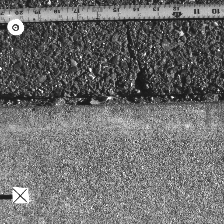circle: (6, 18, 25, 36)
crack: (1, 93, 224, 107)
square: (12, 187, 29, 203)
